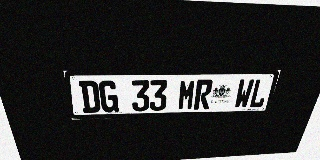3: (132, 80, 149, 112), (150, 80, 167, 111)
D: (79, 81, 101, 113)
G: (98, 80, 119, 112)
L: (248, 79, 270, 108)
M: (177, 80, 197, 110)
R: (193, 79, 213, 110)
W: (233, 79, 255, 108)
